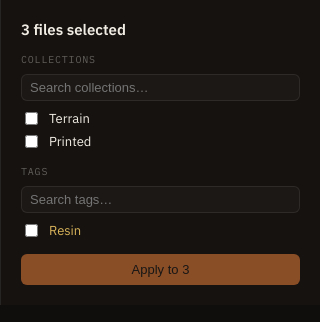
Test: BatchAssignPanel › filters folders by the search box
Type "terr" into the field labelled "Search collections" at (160, 88), box [21,74,300,101]
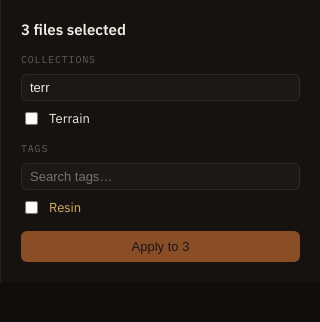
Expected: the checkbox labelled "Terrain" is shown, [25,112,38,125]
Expected: the label "Printed" is gone
